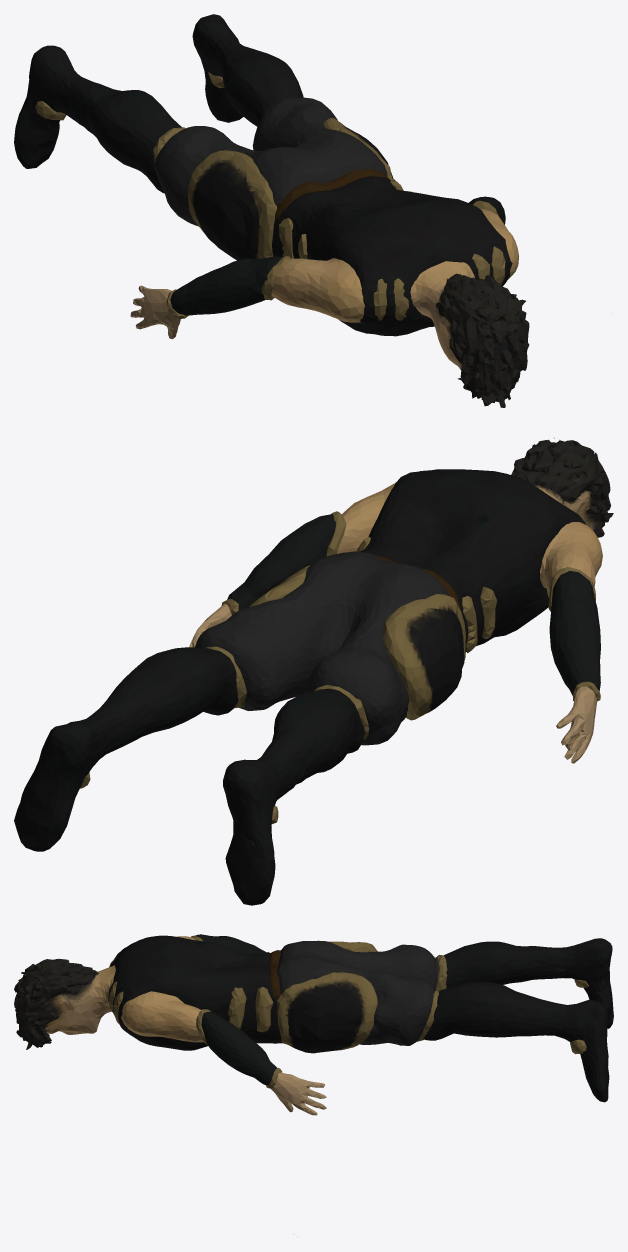
The model's file is Tan.obj.
The picture shows the model from 3 angles, top to bottom: view 1: azimuth 30°, elevation 25°; view 2: azimuth 150°, elevation 25°; view 3: azimuth 270°, elevation 25°; orthographic projection. The views are drawn at different scales.
Visible parts, largest first — view 1: Object.1; view 2: Object.1; view 3: Object.1.
Part boxes in pixels (left/top/right/bottom): Object.1: left=14, top=14, right=529, bottom=407; Object.1: left=14, top=438, right=613, bottom=905; Object.1: left=14, top=934, right=613, bottom=1115.
Size of the model in its own units: 85.7 by 41.19 by 123.
